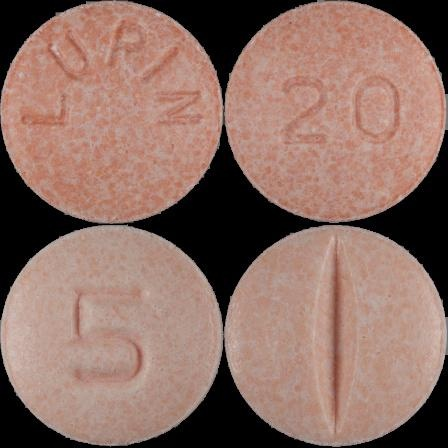54458-996: (0, 0, 224, 224)
